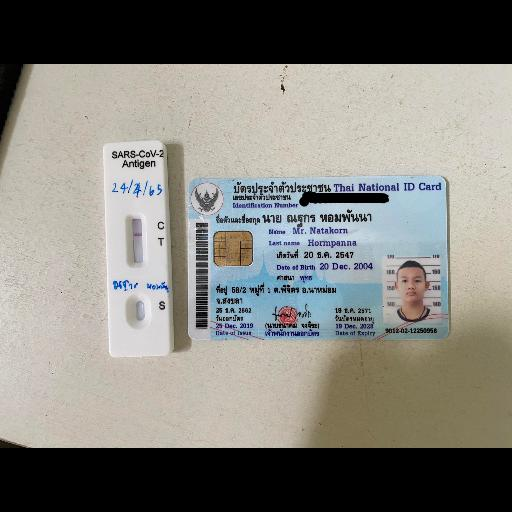Neg: (101, 141, 175, 358)
